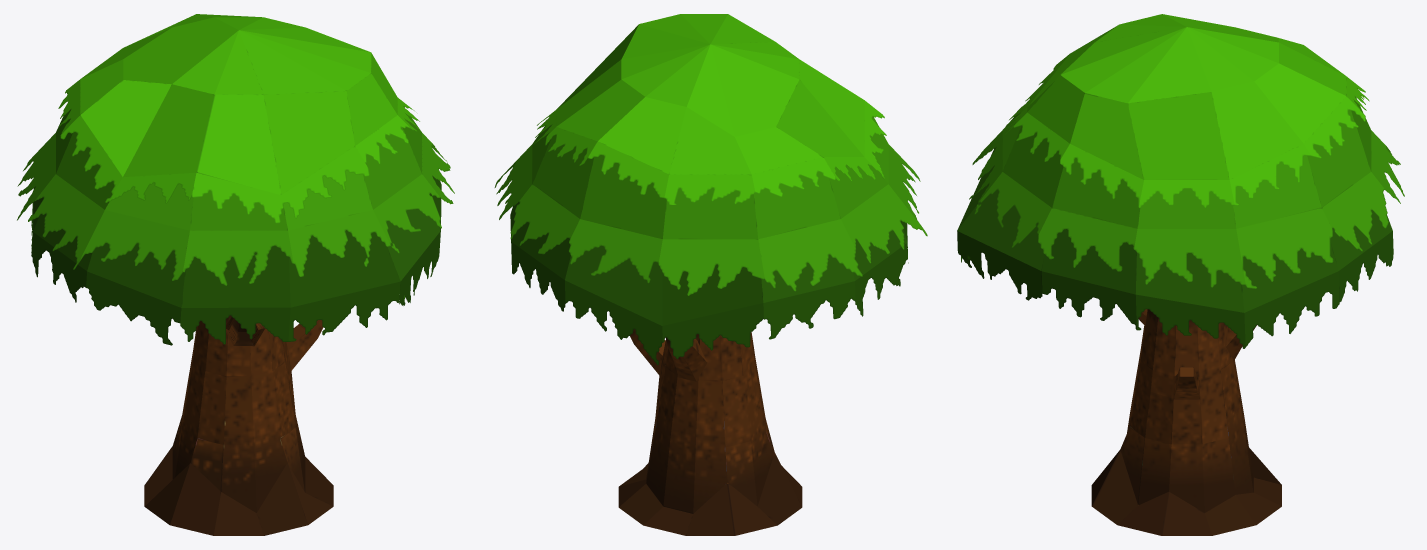
The model's file is TreeMedium.fbx.
3 renders of one model, left to right at view 1: azimuth 30°, elevation 25°; view 2: azimuth 150°, elevation 25°; view 3: azimuth 270°, elevation 25°, orthographic. The views are drawn at different scales.
Parts seen in each view (by area): view 1: sphere_selection; view 2: sphere_selection; view 3: sphere_selection.
Boxes of the visible parts, bbox=[...] form: sphere_selection: bbox=[17, 14, 454, 535]; sphere_selection: bbox=[494, 14, 927, 535]; sphere_selection: bbox=[957, 14, 1404, 535].
Size of the model in its own units: 475 by 544 by 479.
1 material, 1 textured.
